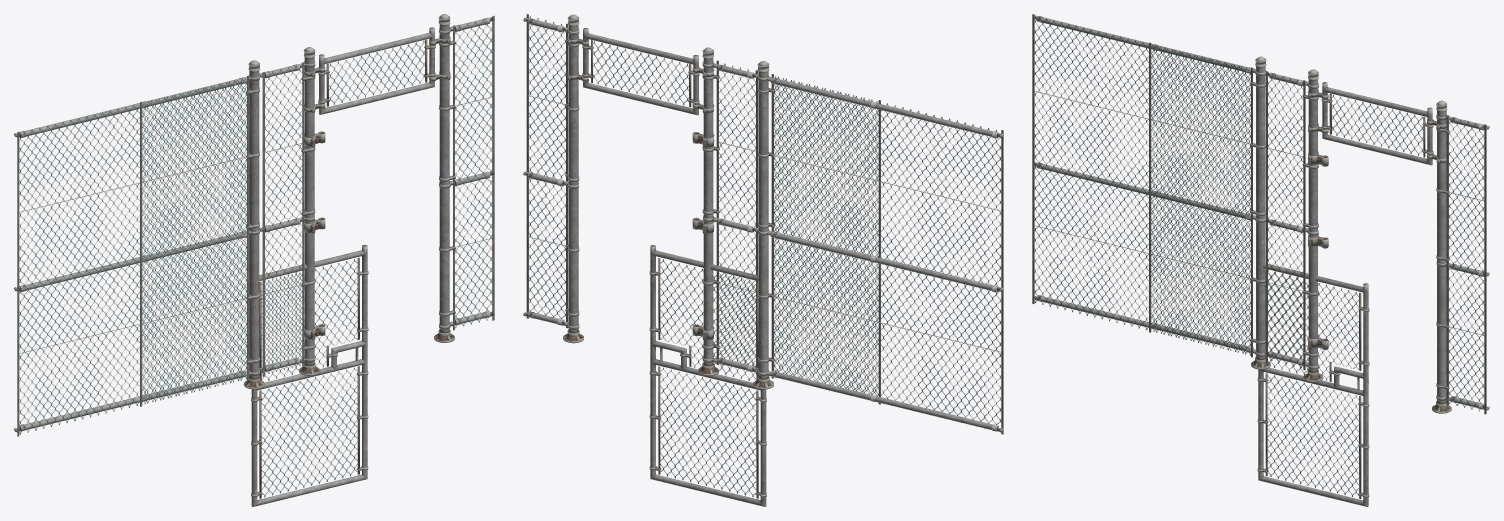
The model's file is kit_fence.glb.
3 views of the same model, side by side, from view 1: azimuth 30°, elevation 25°; view 2: azimuth 150°, elevation 25°; view 3: azimuth 330°, elevation 25° (orthographic). The views are drawn at different scales.
Parts seen in each view (by area): view 1: modular_chainlink_fence_double, modular_chainlink_fence_door_frame, modular_chainlink_fence, modular_chainlink_fence_door_gate, modular_chainlink_fence_post, modular_chainlink_fence_end_01; view 2: modular_chainlink_fence_double, modular_chainlink_fence_door_frame, modular_chainlink_fence, modular_chainlink_fence_door_gate, modular_chainlink_fence_end_01, modular_chainlink_fence_post; view 3: modular_chainlink_fence_double, modular_chainlink_fence_door_frame, modular_chainlink_fence, modular_chainlink_fence_door_gate, modular_chainlink_fence_end_01, modular_chainlink_fence_post.
Part boxes in pixels (<box>): modular_chainlink_fence_double: <box>14,76,250,436</box>; modular_chainlink_fence_door_frame: <box>259,14,494,376</box>; modular_chainlink_fence: <box>138,75,251,406</box>; modular_chainlink_fence_door_gate: <box>251,245,368,506</box>; modular_chainlink_fence_post: <box>243,60,264,389</box>; modular_chainlink_fence_end_01: <box>244,60,264,389</box>; modular_chainlink_fence_double: <box>767,74,1003,434</box>; modular_chainlink_fence_door_frame: <box>523,14,758,375</box>; modular_chainlink_fence: <box>766,74,880,404</box>; modular_chainlink_fence_door_gate: <box>649,245,766,506</box>; modular_chainlink_fence_end_01: <box>753,61,774,389</box>; modular_chainlink_fence_post: <box>753,61,773,389</box>; modular_chainlink_fence_double: <box>1032,14,1255,357</box>; modular_chainlink_fence_door_frame: <box>1265,69,1489,414</box>; modular_chainlink_fence: <box>1148,42,1255,357</box>; modular_chainlink_fence_door_gate: <box>1257,263,1369,506</box>; modular_chainlink_fence_end_01: <box>1250,56,1270,369</box>; modular_chainlink_fence_post: <box>1251,56,1270,369</box>.
Bounding box in the file's own units: 3.91 × 3.47 × 0.1494.
Materials: 2 (2 with a texture image).
